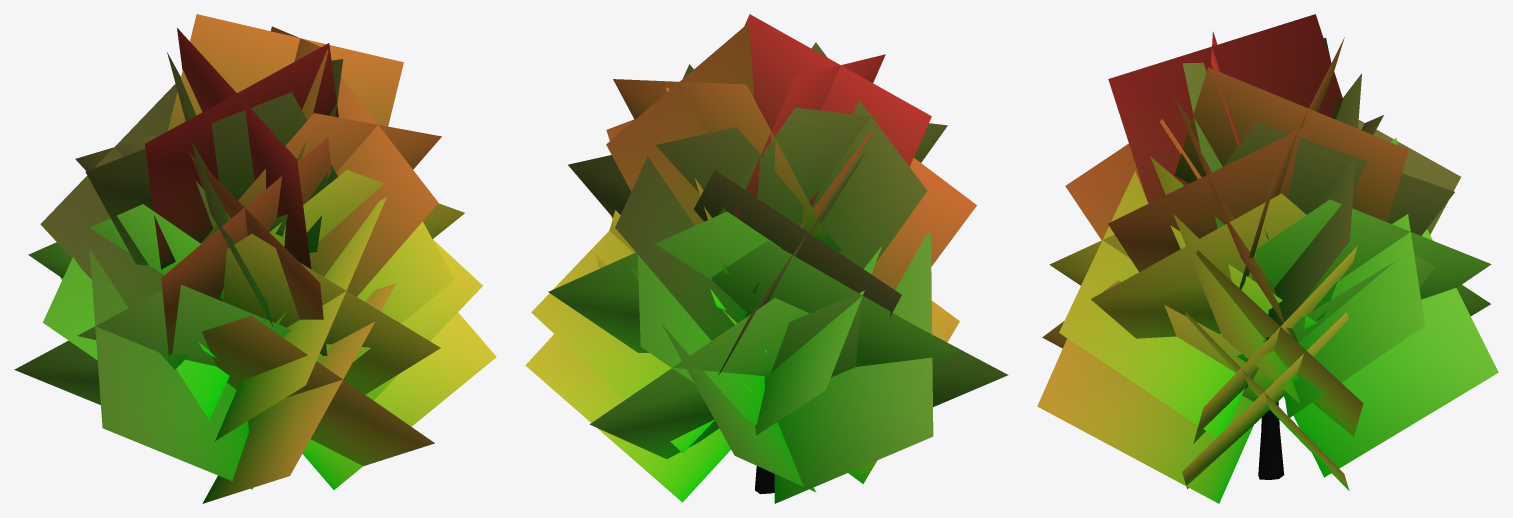
File: Tree_8.fbx
3 renders of one model, left to right at view 1: azimuth 30°, elevation 25°; view 2: azimuth 150°, elevation 25°; view 3: azimuth 270°, elevation 25°, orthographic.
Visible parts, largest first — view 1: Tree_8; view 2: Tree_8; view 3: Tree_8.
Boxes of the visible parts, <box> form: Tree_8: <box>14,14,496,503</box>; Tree_8: <box>525,14,1008,503</box>; Tree_8: <box>1037,14,1498,503</box>.
Bounding box in the file's own units: 428 × 445 × 427.
